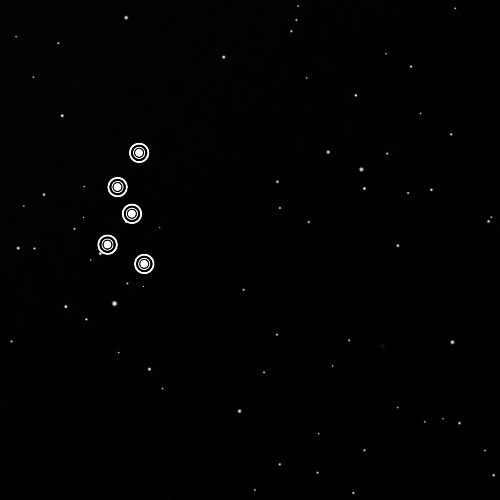cassiopeia: (87, 132, 163, 290)
